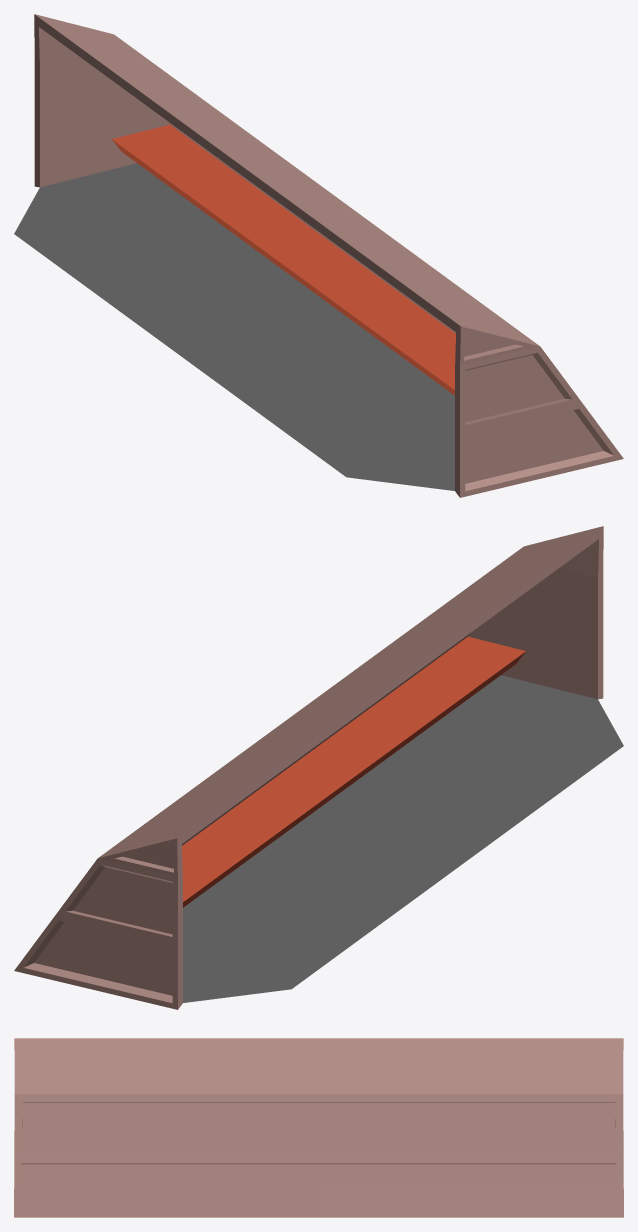
File: Assento Jogadores 2.fbx
The picture shows the model from 3 angles, top to bottom: view 1: azimuth 30°, elevation 25°; view 2: azimuth 150°, elevation 25°; view 3: azimuth 270°, elevation 25°; orthographic projection. The views are drawn at different scales.
Parts seen in each view (by area): view 1: Assento Jogadores 2; view 2: Assento Jogadores 2; view 3: Assento Jogadores 2.
Part boxes in pixels (bbox=[...]): Assento Jogadores 2: bbox=[14, 14, 623, 497]; Assento Jogadores 2: bbox=[14, 526, 623, 1009]; Assento Jogadores 2: bbox=[14, 1038, 623, 1217].
Size of the model in its own units: 706 by 505 by 2271.
